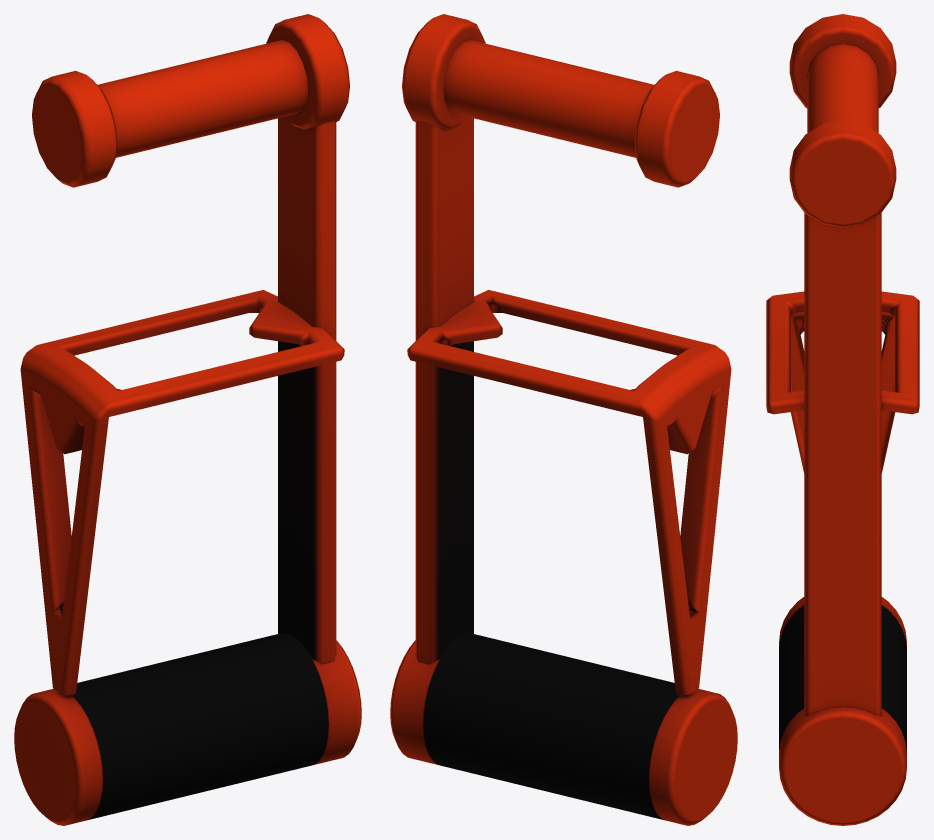
File: Lever.glb
3 views of the same model, side by side, from view 1: azimuth 30°, elevation 25°; view 2: azimuth 150°, elevation 25°; view 3: azimuth 270°, elevation 25° (orthographic). The views are drawn at different scales.
Parts seen in each view (by area): view 1: LeverRight; view 2: LeverRight; view 3: LeverRight.
Part boxes in pixels (left/top/right/bottom): LeverRight: left=14, top=14, right=361, bottom=825; LeverRight: left=390, top=14, right=737, bottom=825; LeverRight: left=766, top=14, right=919, bottom=825.
Size of the model in its own units: 0.24 by 0.5908 by 0.1184.
Materials: 1 (1 with a texture image).
